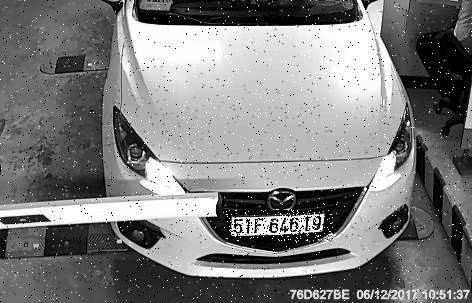License-plate: (228, 212, 335, 243)
